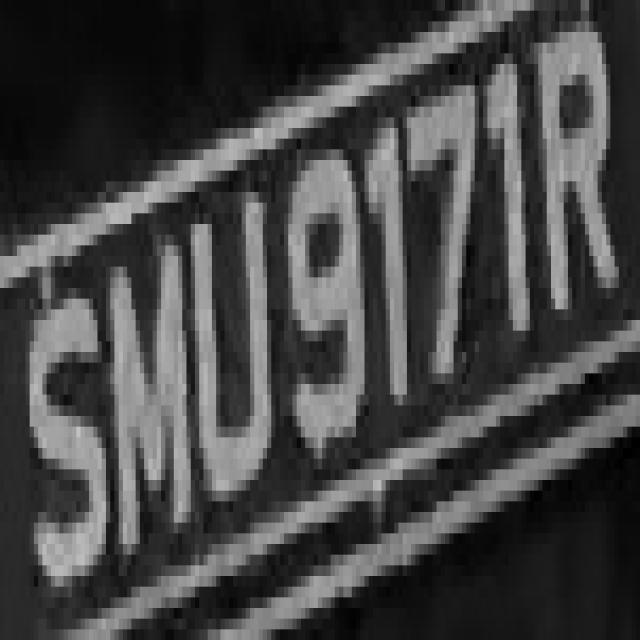1: (365, 85, 411, 459), (496, 42, 538, 330)
7: (398, 64, 479, 405)
9: (276, 117, 364, 480)
M: (102, 224, 199, 576)
R: (530, 21, 627, 331)
S: (13, 256, 106, 597)
U: (182, 171, 267, 512)
